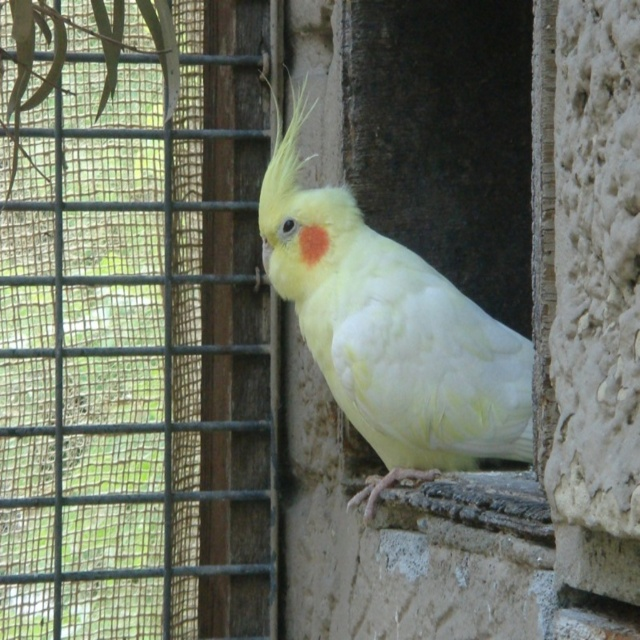Parrot: (259, 63, 534, 527)
